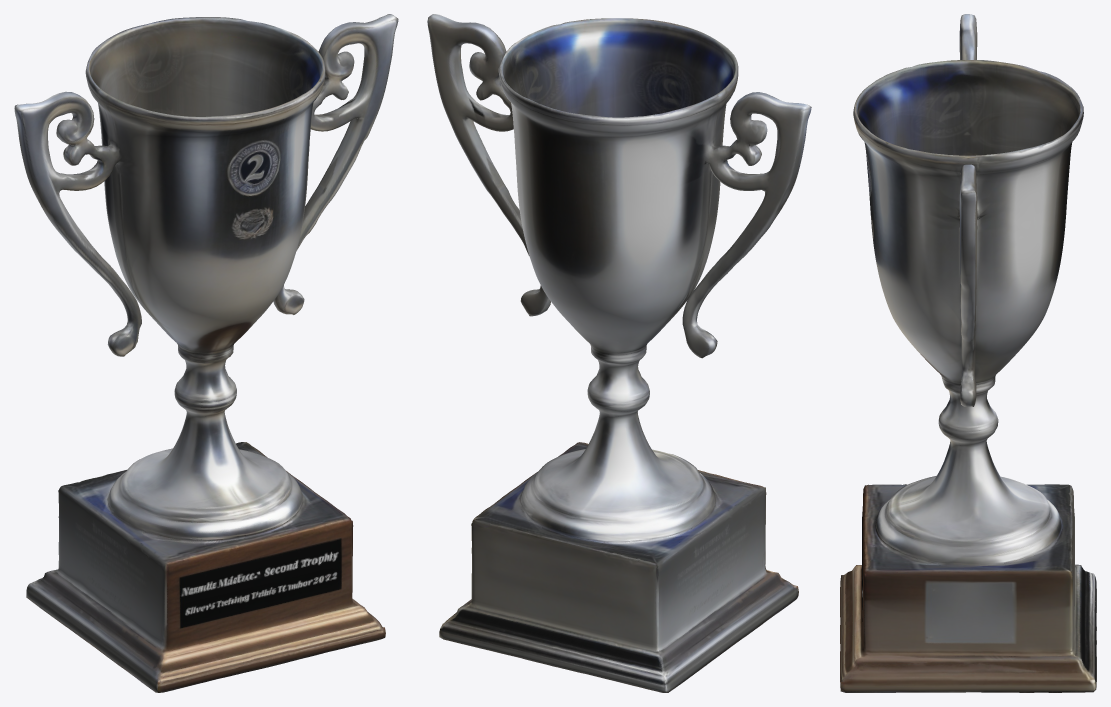
The model's file is Second_place_silver.glb.
3 renders of one model, left to right at view 1: azimuth 30°, elevation 25°; view 2: azimuth 150°, elevation 25°; view 3: azimuth 270°, elevation 25°, orthographic. The views are drawn at different scales.
Size of the model in its own units: 1.42 by 2 by 0.8618.
Materials: 1 (1 with a texture image).
